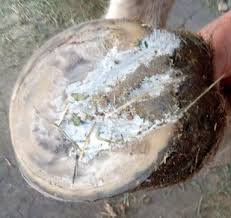horsesole: (9, 17, 184, 203)
